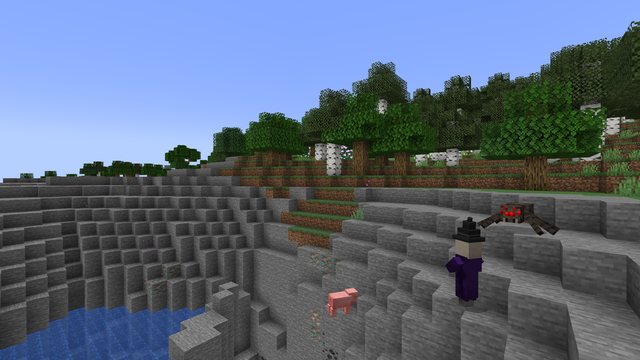araignees: (487, 199, 544, 235)
cochons: (327, 288, 352, 318)
sorcieres: (454, 234, 481, 311)
